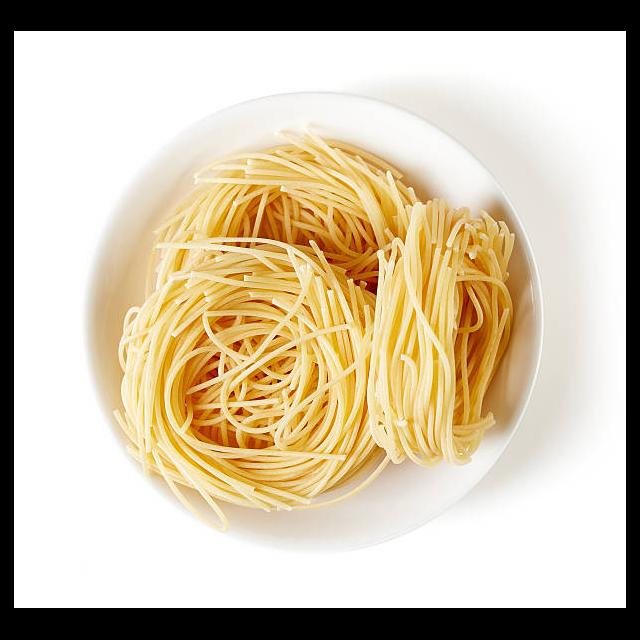noodles: (111, 126, 516, 530)
